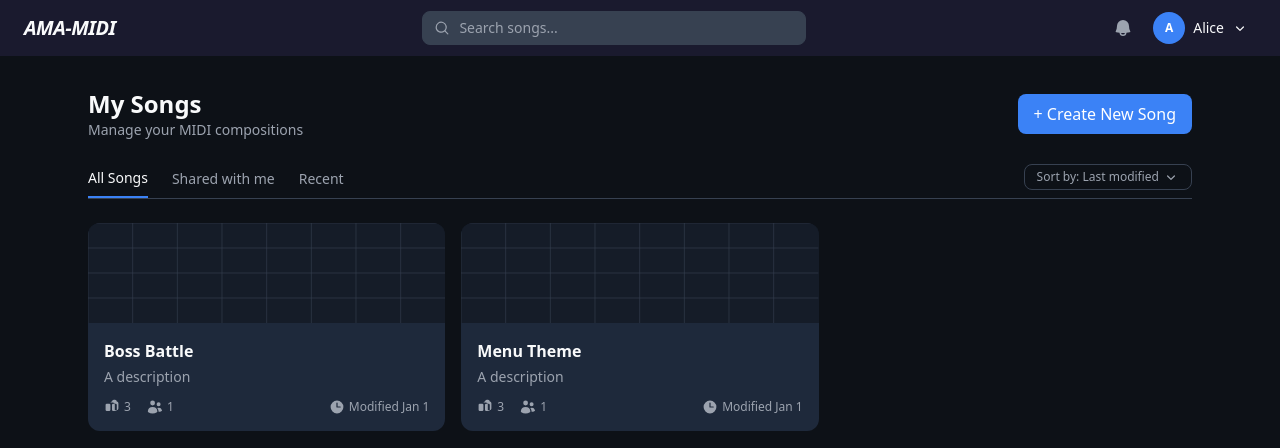
Test: DashboardPage › filters songs by search query
This screenshot has width=1280, height=448.
Type "Boss" into the field with placeholder "Search songs...". click: [614, 28]
box: [422, 11, 806, 45]
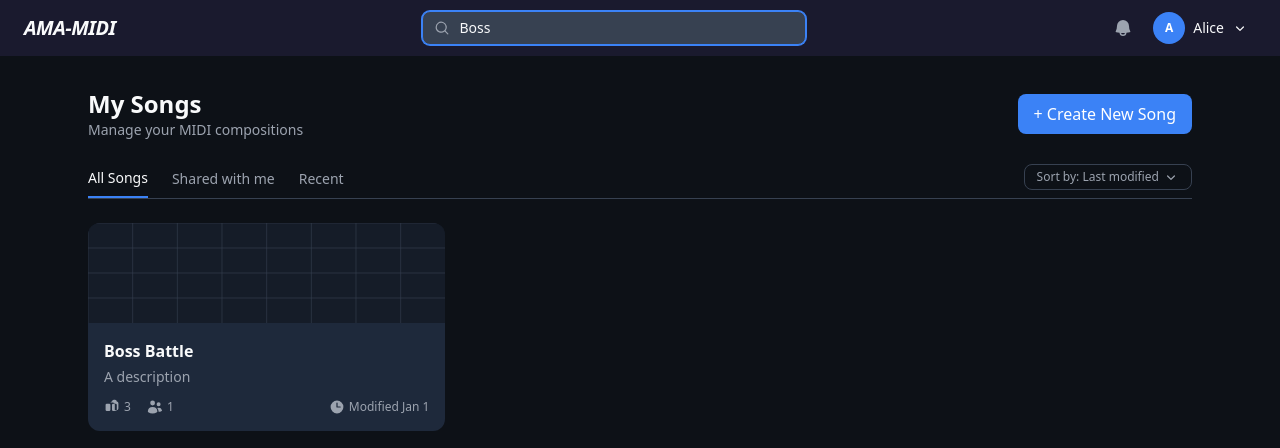
Expected: the heading "Boss Battle" is shown, [104, 340, 193, 362]
Now the heading "Menu Theme" is gone
